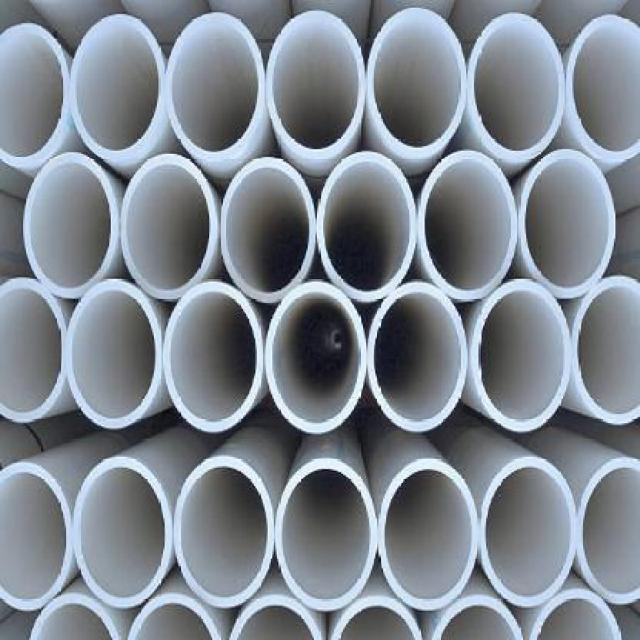pipe: (275, 457, 377, 611), (266, 280, 366, 434), (165, 281, 265, 434), (368, 280, 468, 433), (473, 278, 573, 431), (379, 458, 479, 611), (73, 455, 173, 608), (174, 455, 274, 608), (318, 149, 417, 302), (419, 149, 519, 300), (266, 11, 365, 160), (166, 12, 265, 160), (368, 6, 466, 154), (518, 151, 617, 297), (66, 280, 163, 429), (480, 456, 577, 605), (120, 151, 217, 299), (469, 12, 566, 160), (23, 151, 119, 300), (220, 156, 317, 302), (71, 14, 167, 159), (566, 12, 640, 163), (0, 460, 72, 611), (0, 22, 72, 168), (571, 274, 639, 427), (0, 277, 68, 422), (577, 454, 640, 607), (529, 586, 622, 640), (228, 592, 325, 640), (128, 592, 221, 640), (330, 594, 425, 640), (430, 595, 525, 640), (29, 594, 120, 639)
